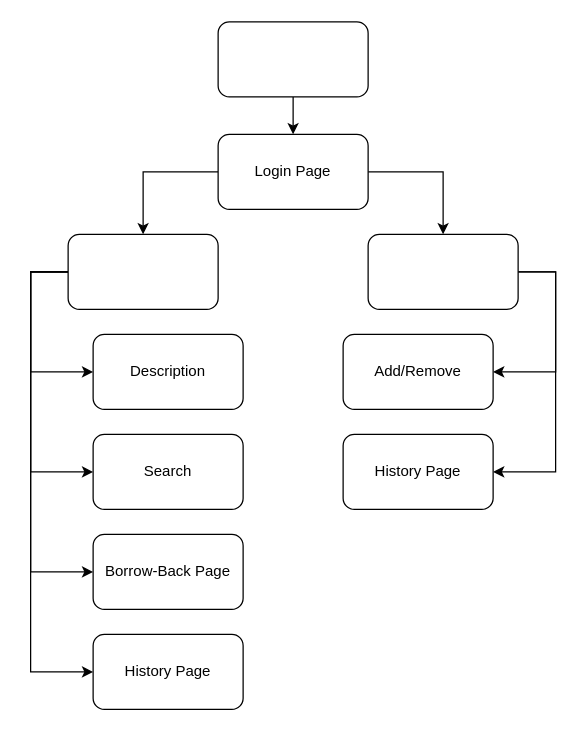
Image size: 588x731. Some labels were removed from this diagram. The box of each missing label's shape, as (x1, y1, x2, y2) in pixels:
Admin: (367, 233, 518, 309)
Home Page: (217, 21, 368, 97)
User: (67, 233, 218, 309)
